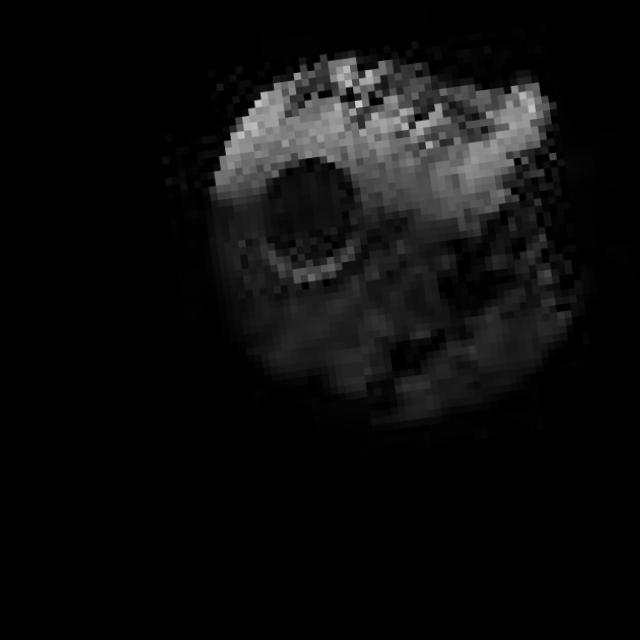Death Star: (169, 8, 612, 460)
